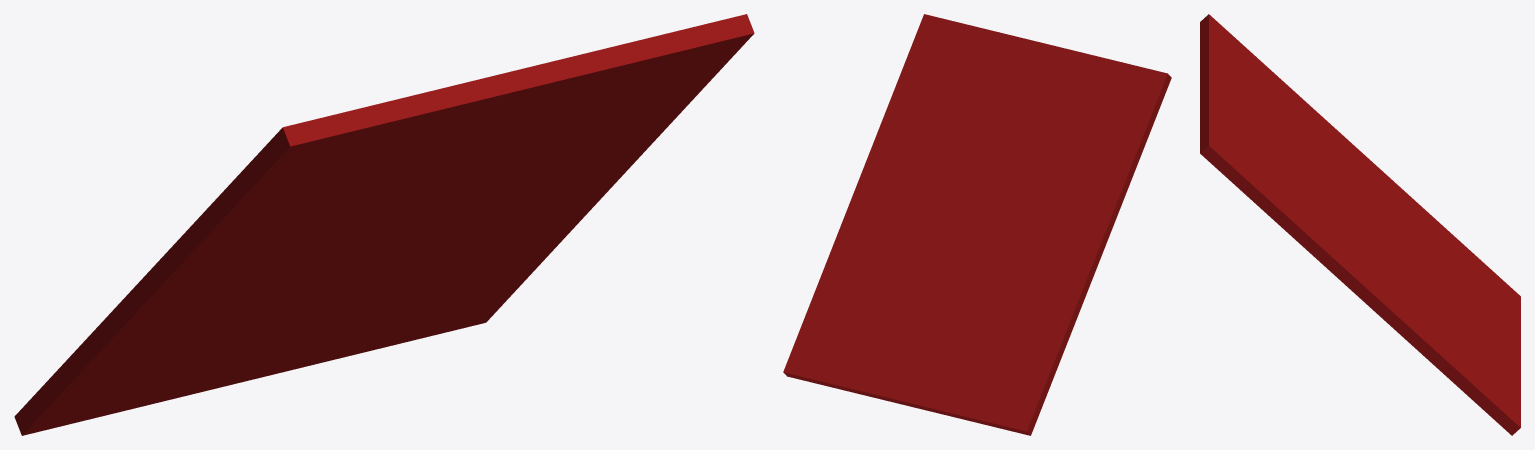
The model's file is MOD_Toitb.FBX.
3 views of the same model, side by side, from view 1: azimuth 30°, elevation 25°; view 2: azimuth 150°, elevation 25°; view 3: azimuth 270°, elevation 25° (orthographic). The views are drawn at different scales.
Visible parts, largest first — view 1: MOD_toitA; view 2: MOD_toitA; view 3: MOD_toitA.
Part boxes in pixels (<box>): MOD_toitA: <box>14,14,754,435</box>; MOD_toitA: <box>783,14,1171,435</box>; MOD_toitA: <box>1200,14,1520,435</box>.
Bounding box in the file's own units: 1 × 1.03 × 1.03.
